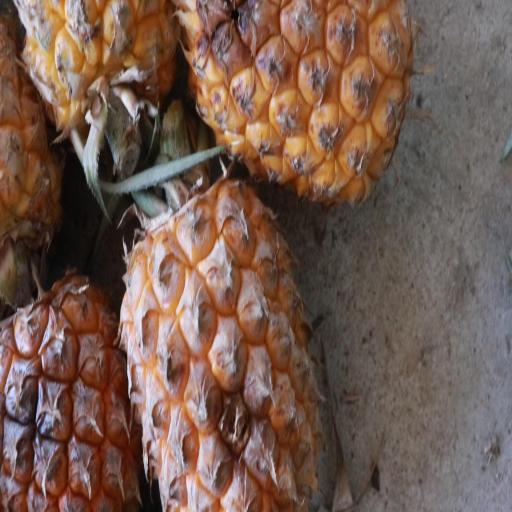Pineapple - v8 v1: (117, 164, 323, 512), (178, 0, 416, 214), (0, 263, 138, 510)
